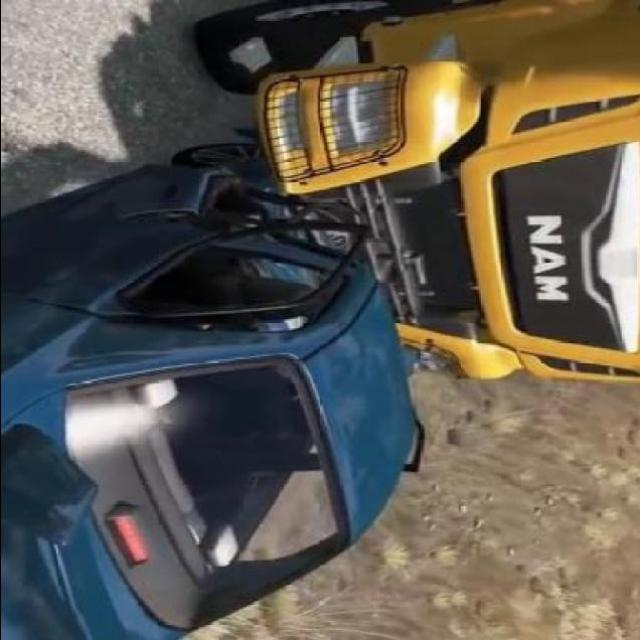accident: (199, 5, 546, 587)
